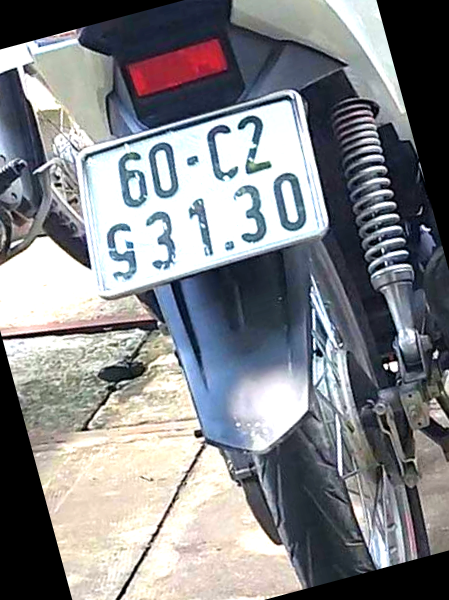number: (76, 89, 325, 302)
